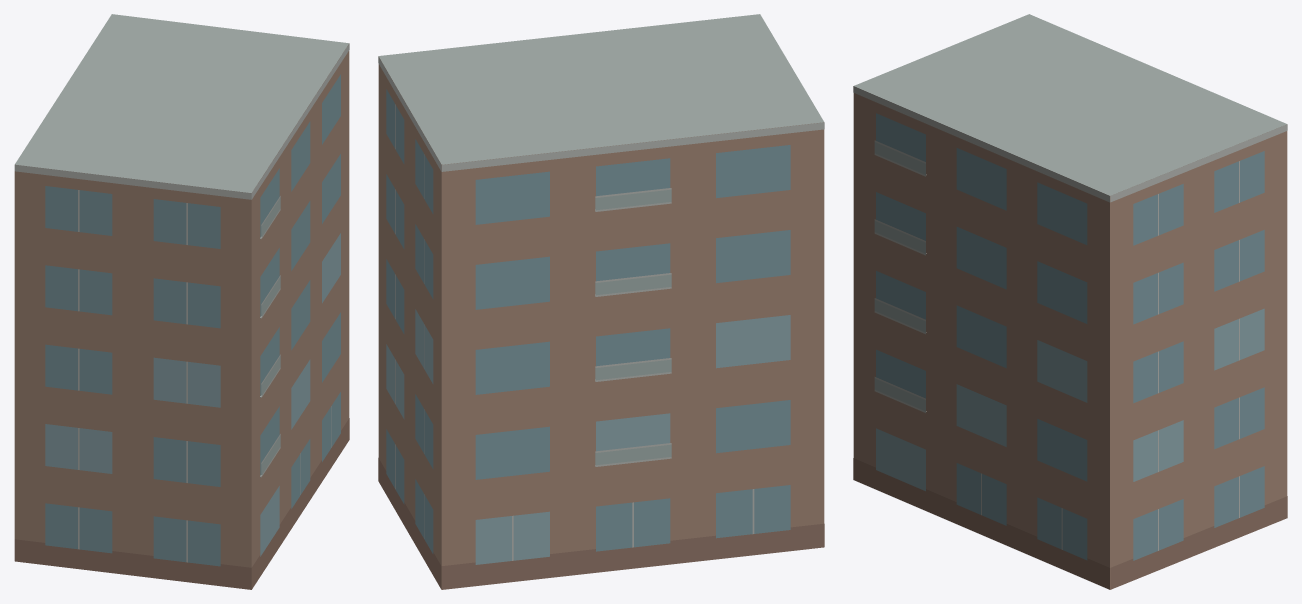
File: survey-upis-32893688.glb
3 views of the same model, side by side, from view 1: azimuth 30°, elevation 25°; view 2: azimuth 150°, elevation 25°; view 3: azimuth 270°, elevation 25° (orthographic). The views are drawn at different scales.
Parts seen in each view (by area): view 1: survey-upis-32893688.tmp; view 2: survey-upis-32893688.tmp; view 3: survey-upis-32893688.tmp.
Part boxes in pixels (x1,y1,x2,y2): survey-upis-32893688.tmp: [14, 14, 349, 589]; survey-upis-32893688.tmp: [378, 14, 824, 589]; survey-upis-32893688.tmp: [853, 14, 1287, 589].
Bounding box in the file's own units: 14.37 × 14.5 × 14.48.
